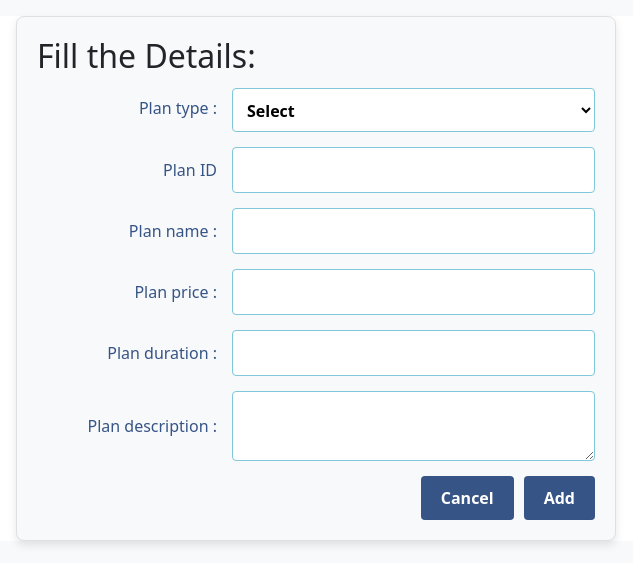
CreateServicePlan Component › clears the form on cancel
Type "PREP-TC-0001" into the field labelled "Plan ID" at (414, 170), box [232,147,595,193]
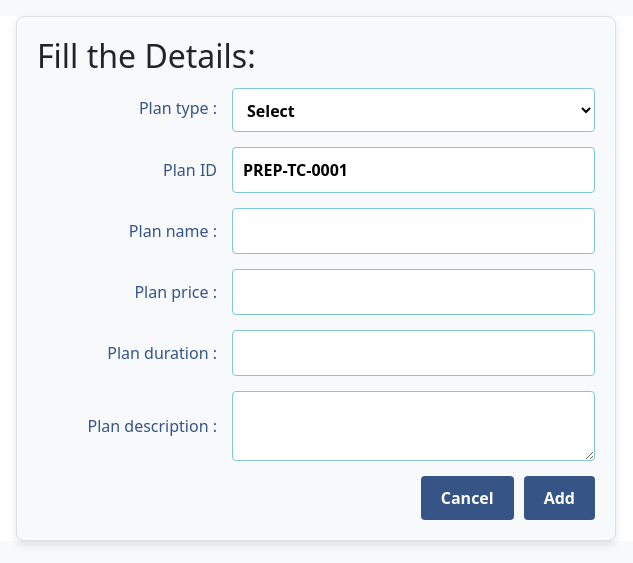
Type "Basic Plan" into the field labelled "Plan name :" at (414, 231), box [232,208,595,254]
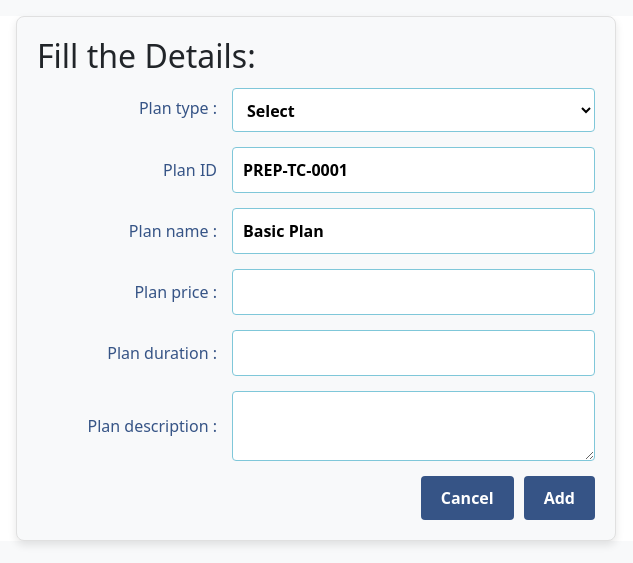
Type "10" into the field labelled "Plan price :" at (414, 292), box [232,269,595,315]
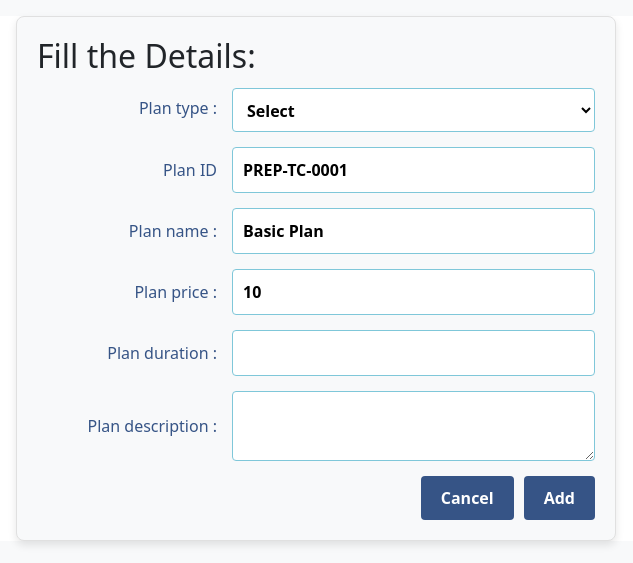
Type "30 days" into the field labelled "Plan duration :" at (414, 353), box [232,330,595,376]
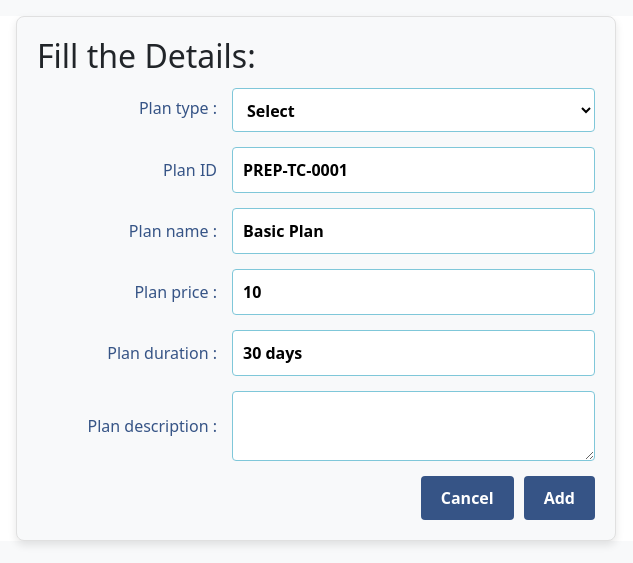
Type "A basic prepaid plan" into the text box labelled "Plan description :" at (414, 426), box [232,391,595,461]
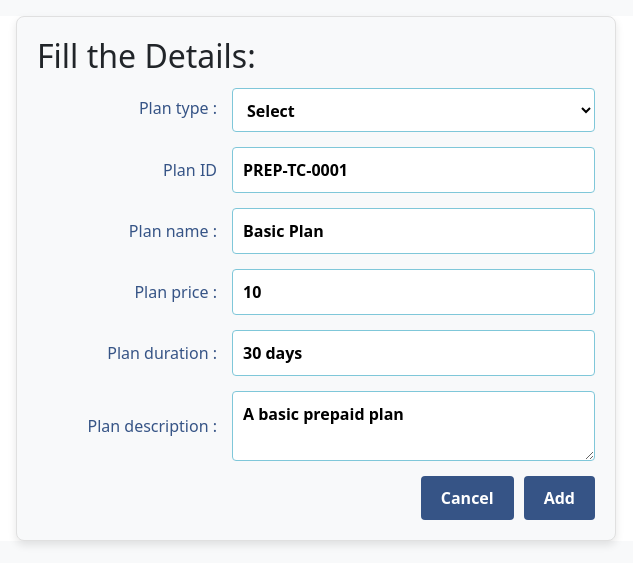
Click the button "Cancel" at (467, 498), box [421,476,514,520]
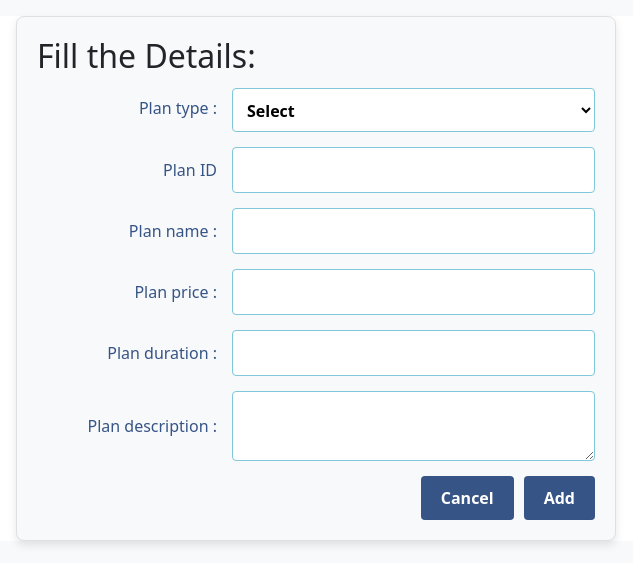
Expected: the field labelled "Plan ID" is empty, [232,147,595,193]
Expected: the field labelled "Plan name :" is empty, [232,208,595,254]
Expected: the field labelled "Plan price :" is empty, [232,269,595,315]
